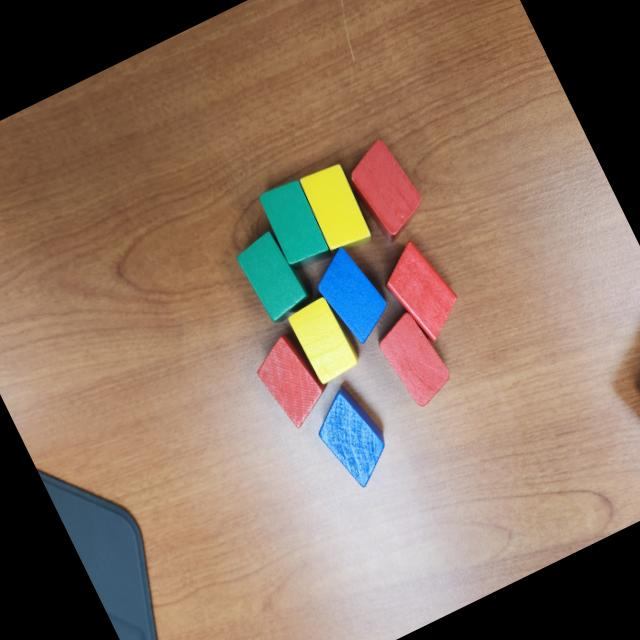blue: (300, 374, 402, 496), (306, 238, 400, 352)
green: (229, 225, 314, 328), (254, 175, 332, 267)
red: (372, 231, 472, 350), (337, 132, 435, 250), (246, 324, 340, 434), (368, 304, 459, 412)
yellow: (284, 291, 366, 386), (297, 160, 375, 256)
